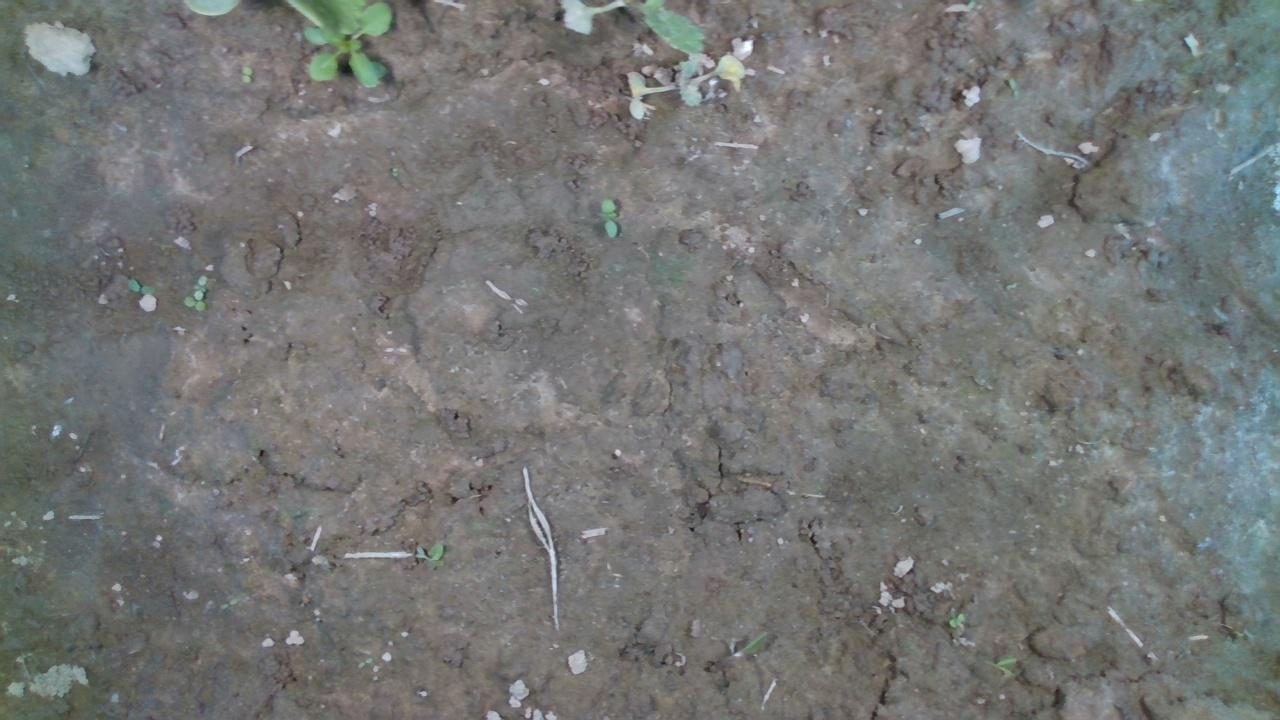weed: (593, 194, 621, 236), (124, 273, 159, 299), (944, 608, 973, 629), (234, 63, 254, 84), (357, 653, 377, 671)
